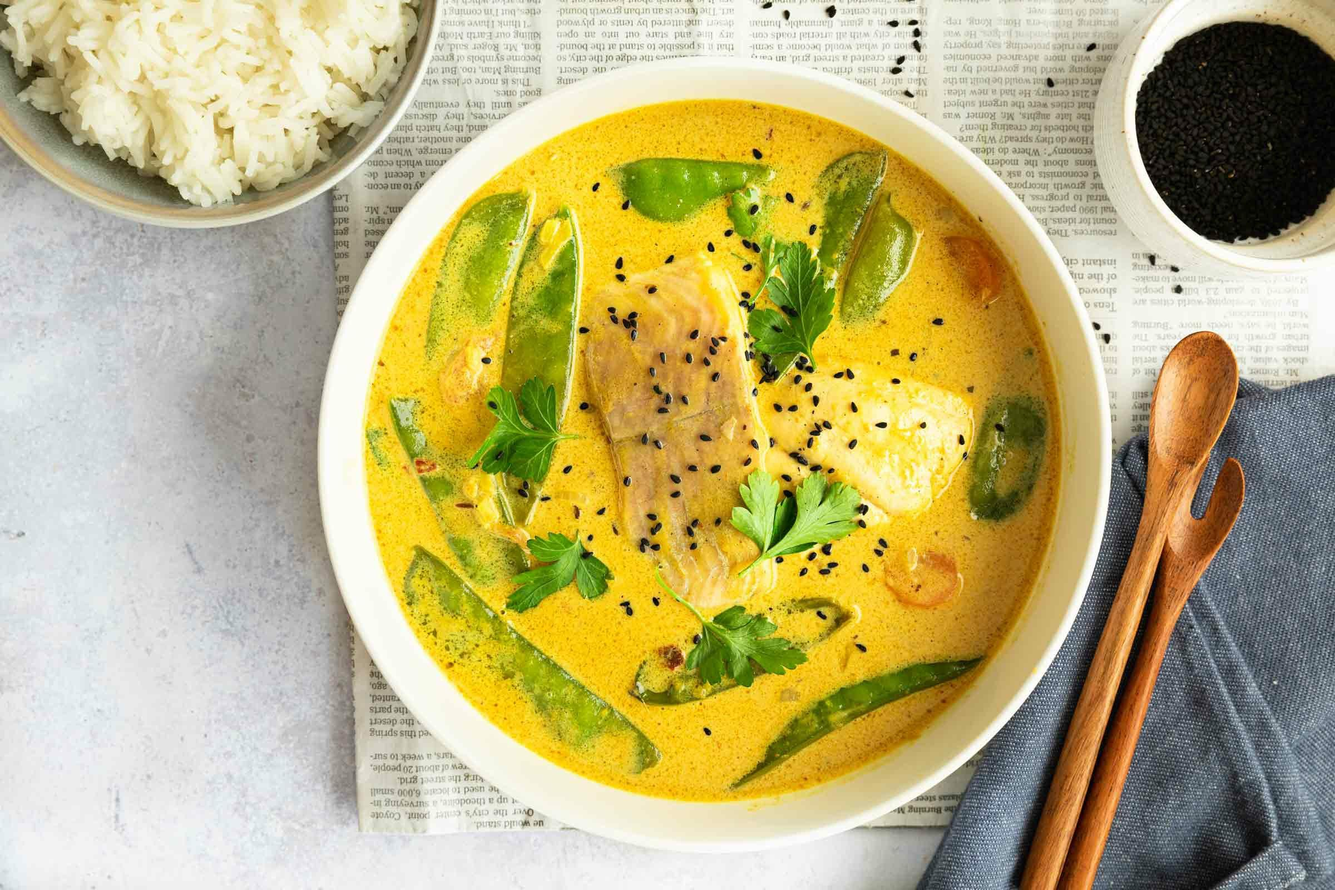FishCurry: (362, 100, 1053, 803)
WhiteRice: (0, 2, 422, 207)
